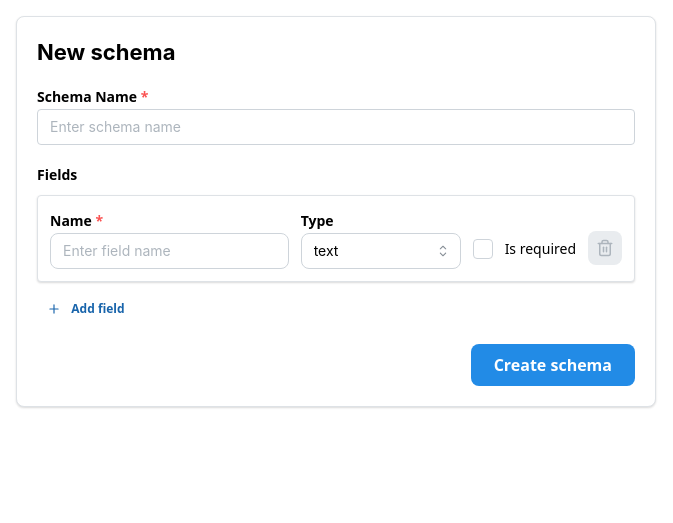
Test: SchemaEditor › disables removing the last remaining field
The width and height of the screenshot is (673, 523).
Expected: the button named "Remove field" is disabled, top-left (588, 231), bottom-right (622, 265)
Click the button "Add field": click(88, 309) top-left (37, 294), bottom-right (140, 324)
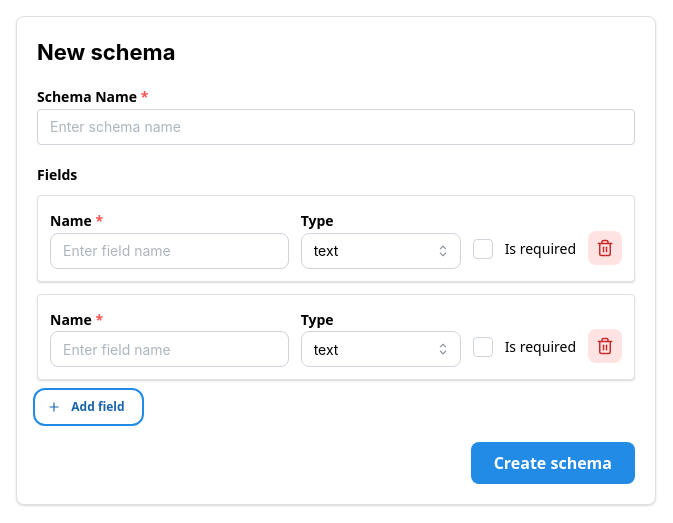
Now the 1st button named "Remove field" is enabled
Click the 1st button named "Remove field": click(605, 248) top-left (588, 231), bottom-right (622, 265)
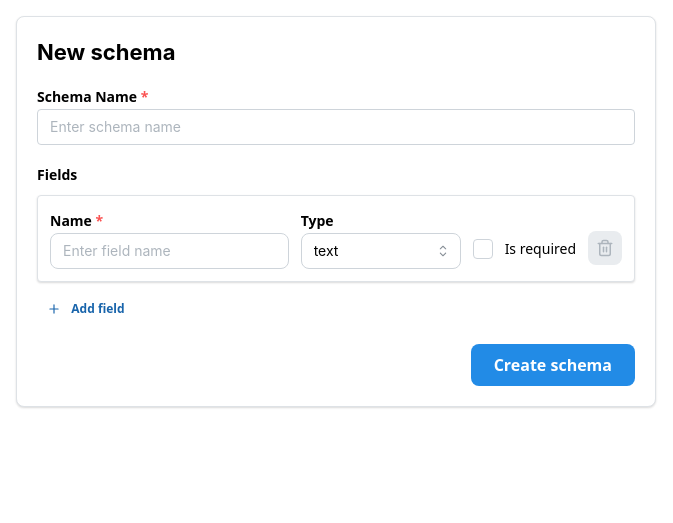
Now the button named "Remove field" is disabled, box top-left (588, 231), bottom-right (622, 265)
